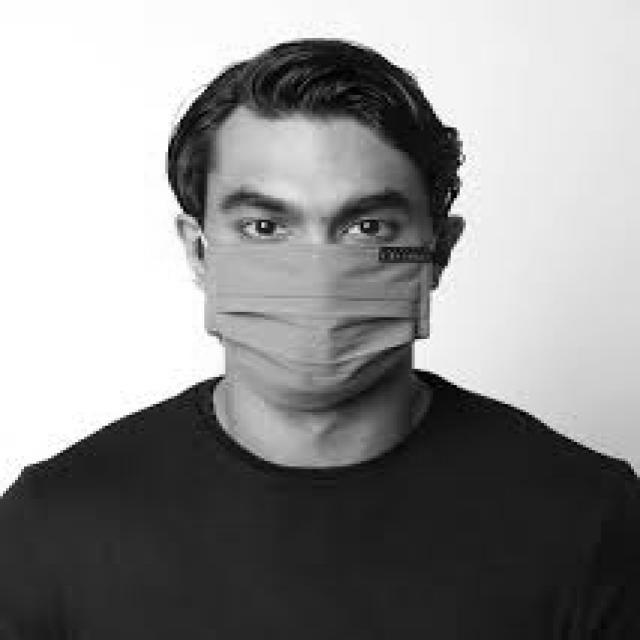fake: (169, 206, 465, 430)
real: (203, 110, 437, 428)
